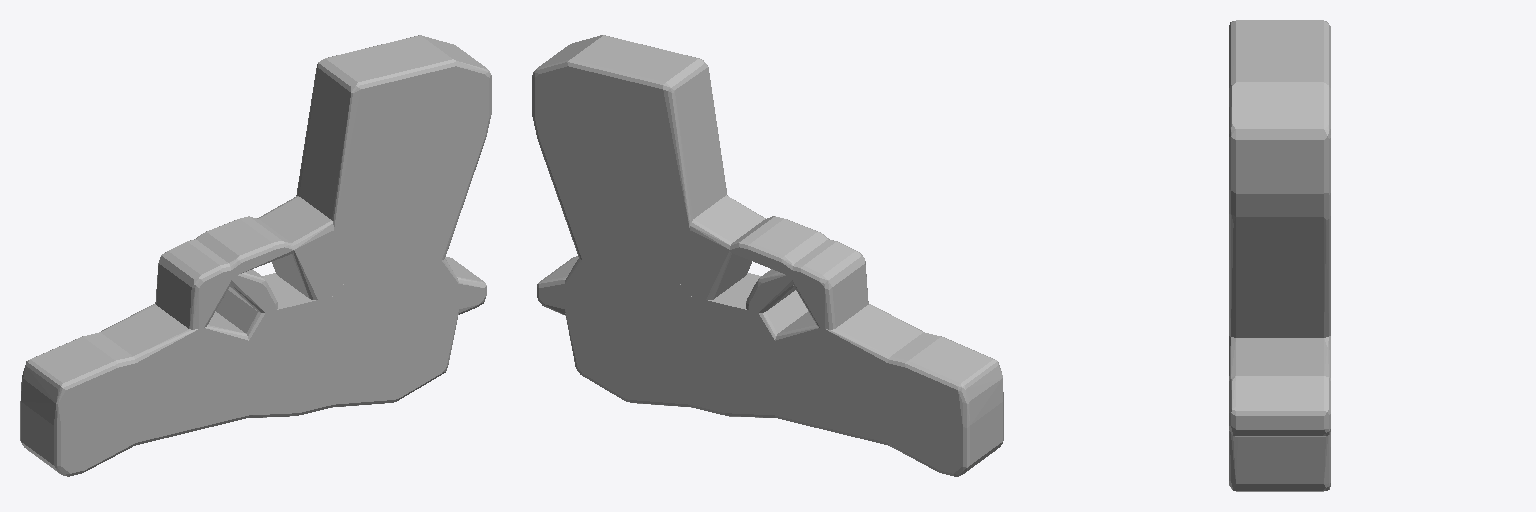
The robot description file, URDF, robot "root":
<robot name="root">
  <link name="link_coacd_convex_piece_0">
    <inertial>
      <origin xyz="0 0 0" rpy="0 0 0"/>
      <inertia ixx="2.37E-02" ixy="1.33E-06" ixz="6.08E-07" iyy="1.79E-02" iyz="1.09E-02" izz="6.46E-03"/>
    </inertial>
    <visual>
      <origin xyz="0 0 0" rpy="0 0 0"/>
      <geometry>
        <mesh filename="coacd_convex_piece_0.obj" scale="1.0000E+00 1.0000E+00 1.0000E+00"/>
      </geometry>
      <material name="">
        <color rgba="7.50E-01 7.50E-01 7.50E-01 1"/>
      </material>
    </visual>
    <collision>
      <origin xyz="0 0 0" rpy="0 0 0"/>
      <geometry>
        <mesh filename="coacd_convex_piece_0.obj" scale="1.0000E+00 1.0000E+00 1.0000E+00"/>
      </geometry>
    </collision>
  </link>
  <link name="link_coacd_convex_piece_1">
    <inertial>
      <origin xyz="0 0 0" rpy="0 0 0"/>
      <inertia ixx="1.34E-03" ixy="8.47E-08" ixz="1.81E-07" iyy="1.21E-03" iyz="-4.14E-04" izz="1.51E-04"/>
    </inertial>
    <visual>
      <origin xyz="0 0 0" rpy="0 0 0"/>
      <geometry>
        <mesh filename="coacd_convex_piece_1.obj" scale="1.0000E+00 1.0000E+00 1.0000E+00"/>
      </geometry>
      <material name="">
        <color rgba="7.50E-01 7.50E-01 7.50E-01 1"/>
      </material>
    </visual>
    <collision>
      <origin xyz="0 0 0" rpy="0 0 0"/>
      <geometry>
        <mesh filename="coacd_convex_piece_1.obj" scale="1.0000E+00 1.0000E+00 1.0000E+00"/>
      </geometry>
    </collision>
  </link>
  <joint name="link_coacd_convex_piece_1_joint" type="fixed">
    <origin xyz="0 0 0" rpy="0 0 0"/>
    <parent link="link_coacd_convex_piece_0"/>
    <child link="link_coacd_convex_piece_1"/>
  </joint>
  <link name="link_coacd_convex_piece_2">
    <inertial>
      <origin xyz="0 0 0" rpy="0 0 0"/>
      <inertia ixx="1.24E-02" ixy="6.91E-07" ixz="9.09E-07" iyy="7.75E-03" iyz="-5.30E-03" izz="5.03E-03"/>
    </inertial>
    <visual>
      <origin xyz="0 0 0" rpy="0 0 0"/>
      <geometry>
        <mesh filename="coacd_convex_piece_2.obj" scale="1.0000E+00 1.0000E+00 1.0000E+00"/>
      </geometry>
      <material name="">
        <color rgba="7.50E-01 7.50E-01 7.50E-01 1"/>
      </material>
    </visual>
    <collision>
      <origin xyz="0 0 0" rpy="0 0 0"/>
      <geometry>
        <mesh filename="coacd_convex_piece_2.obj" scale="1.0000E+00 1.0000E+00 1.0000E+00"/>
      </geometry>
    </collision>
  </link>
  <joint name="link_coacd_convex_piece_2_joint" type="fixed">
    <origin xyz="0 0 0" rpy="0 0 0"/>
    <parent link="link_coacd_convex_piece_1"/>
    <child link="link_coacd_convex_piece_2"/>
  </joint>
  <link name="link_coacd_convex_piece_3">
    <inertial>
      <origin xyz="0 0 0" rpy="0 0 0"/>
      <inertia ixx="1.12E-02" ixy="-6.39E-08" ixz="9.47E-07" iyy="8.49E-03" iyz="5.54E-03" izz="2.94E-03"/>
    </inertial>
    <visual>
      <origin xyz="0 0 0" rpy="0 0 0"/>
      <geometry>
        <mesh filename="coacd_convex_piece_3.obj" scale="1.0000E+00 1.0000E+00 1.0000E+00"/>
      </geometry>
      <material name="">
        <color rgba="7.50E-01 7.50E-01 7.50E-01 1"/>
      </material>
    </visual>
    <collision>
      <origin xyz="0 0 0" rpy="0 0 0"/>
      <geometry>
        <mesh filename="coacd_convex_piece_3.obj" scale="1.0000E+00 1.0000E+00 1.0000E+00"/>
      </geometry>
    </collision>
  </link>
  <joint name="link_coacd_convex_piece_3_joint" type="fixed">
    <origin xyz="0 0 0" rpy="0 0 0"/>
    <parent link="link_coacd_convex_piece_2"/>
    <child link="link_coacd_convex_piece_3"/>
  </joint>
  <link name="link_coacd_convex_piece_4">
    <inertial>
      <origin xyz="0 0 0" rpy="0 0 0"/>
      <inertia ixx="-8.81E-05" ixy="5.06E-08" ixz="2.37E-08" iyy="-5.29E-06" iyz="1.12E-04" izz="-2.20E-05"/>
    </inertial>
    <visual>
      <origin xyz="0 0 0" rpy="0 0 0"/>
      <geometry>
        <mesh filename="coacd_convex_piece_4.obj" scale="1.0000E+00 1.0000E+00 1.0000E+00"/>
      </geometry>
      <material name="">
        <color rgba="7.50E-01 7.50E-01 7.50E-01 1"/>
      </material>
    </visual>
    <collision>
      <origin xyz="0 0 0" rpy="0 0 0"/>
      <geometry>
        <mesh filename="coacd_convex_piece_4.obj" scale="1.0000E+00 1.0000E+00 1.0000E+00"/>
      </geometry>
    </collision>
  </link>
  <joint name="link_coacd_convex_piece_4_joint" type="fixed">
    <origin xyz="0 0 0" rpy="0 0 0"/>
    <parent link="link_coacd_convex_piece_3"/>
    <child link="link_coacd_convex_piece_4"/>
  </joint>
  <link name="link_coacd_convex_piece_5">
    <inertial>
      <origin xyz="0 0 0" rpy="0 0 0"/>
      <inertia ixx="2.47E-03" ixy="1.69E-07" ixz="2.65E-07" iyy="-3.86E-04" iyz="-4.03E-05" izz="3.11E-03"/>
    </inertial>
    <visual>
      <origin xyz="0 0 0" rpy="0 0 0"/>
      <geometry>
        <mesh filename="coacd_convex_piece_5.obj" scale="1.0000E+00 1.0000E+00 1.0000E+00"/>
      </geometry>
      <material name="">
        <color rgba="7.50E-01 7.50E-01 7.50E-01 1"/>
      </material>
    </visual>
    <collision>
      <origin xyz="0 0 0" rpy="0 0 0"/>
      <geometry>
        <mesh filename="coacd_convex_piece_5.obj" scale="1.0000E+00 1.0000E+00 1.0000E+00"/>
      </geometry>
    </collision>
  </link>
  <joint name="link_coacd_convex_piece_5_joint" type="fixed">
    <origin xyz="0 0 0" rpy="0 0 0"/>
    <parent link="link_coacd_convex_piece_4"/>
    <child link="link_coacd_convex_piece_5"/>
  </joint>
  <link name="link_coacd_convex_piece_6">
    <inertial>
      <origin xyz="0 0 0" rpy="0 0 0"/>
      <inertia ixx="5.65E-03" ixy="1.92E-07" ixz="3.23E-07" iyy="2.44E-03" iyz="3.76E-03" izz="3.51E-03"/>
    </inertial>
    <visual>
      <origin xyz="0 0 0" rpy="0 0 0"/>
      <geometry>
        <mesh filename="coacd_convex_piece_6.obj" scale="1.0000E+00 1.0000E+00 1.0000E+00"/>
      </geometry>
      <material name="">
        <color rgba="7.50E-01 7.50E-01 7.50E-01 1"/>
      </material>
    </visual>
    <collision>
      <origin xyz="0 0 0" rpy="0 0 0"/>
      <geometry>
        <mesh filename="coacd_convex_piece_6.obj" scale="1.0000E+00 1.0000E+00 1.0000E+00"/>
      </geometry>
    </collision>
  </link>
  <joint name="link_coacd_convex_piece_6_joint" type="fixed">
    <origin xyz="0 0 0" rpy="0 0 0"/>
    <parent link="link_coacd_convex_piece_5"/>
    <child link="link_coacd_convex_piece_6"/>
  </joint>
  <link name="link_coacd_convex_piece_7">
    <inertial>
      <origin xyz="0 0 0" rpy="0 0 0"/>
      <inertia ixx="7.79E-05" ixy="2.92E-08" ixz="1.21E-07" iyy="1.40E-04" iyz="1.39E-04" izz="-1.82E-05"/>
    </inertial>
    <visual>
      <origin xyz="0 0 0" rpy="0 0 0"/>
      <geometry>
        <mesh filename="coacd_convex_piece_7.obj" scale="1.0000E+00 1.0000E+00 1.0000E+00"/>
      </geometry>
      <material name="">
        <color rgba="7.50E-01 7.50E-01 7.50E-01 1"/>
      </material>
    </visual>
    <collision>
      <origin xyz="0 0 0" rpy="0 0 0"/>
      <geometry>
        <mesh filename="coacd_convex_piece_7.obj" scale="1.0000E+00 1.0000E+00 1.0000E+00"/>
      </geometry>
    </collision>
  </link>
  <joint name="link_coacd_convex_piece_7_joint" type="fixed">
    <origin xyz="0 0 0" rpy="0 0 0"/>
    <parent link="link_coacd_convex_piece_6"/>
    <child link="link_coacd_convex_piece_7"/>
  </joint>
  <link name="link_coacd_convex_piece_8">
    <inertial>
      <origin xyz="0 0 0" rpy="0 0 0"/>
      <inertia ixx="-1.07E-04" ixy="2.62E-08" ixz="4.02E-08" iyy="-6.72E-05" iyz="7.87E-05" izz="-7.88E-06"/>
    </inertial>
    <visual>
      <origin xyz="0 0 0" rpy="0 0 0"/>
      <geometry>
        <mesh filename="coacd_convex_piece_8.obj" scale="1.0000E+00 1.0000E+00 1.0000E+00"/>
      </geometry>
      <material name="">
        <color rgba="7.50E-01 7.50E-01 7.50E-01 1"/>
      </material>
    </visual>
    <collision>
      <origin xyz="0 0 0" rpy="0 0 0"/>
      <geometry>
        <mesh filename="coacd_convex_piece_8.obj" scale="1.0000E+00 1.0000E+00 1.0000E+00"/>
      </geometry>
    </collision>
  </link>
  <joint name="link_coacd_convex_piece_8_joint" type="fixed">
    <origin xyz="0 0 0" rpy="0 0 0"/>
    <parent link="link_coacd_convex_piece_7"/>
    <child link="link_coacd_convex_piece_8"/>
  </joint>
  <link name="link_coacd_convex_piece_9">
    <inertial>
      <origin xyz="0 0 0" rpy="0 0 0"/>
      <inertia ixx="-9.80E-05" ixy="3.79E-08" ixz="4.81E-08" iyy="-5.69E-05" iyz="5.05E-05" izz="-1.50E-05"/>
    </inertial>
    <visual>
      <origin xyz="0 0 0" rpy="0 0 0"/>
      <geometry>
        <mesh filename="coacd_convex_piece_9.obj" scale="1.0000E+00 1.0000E+00 1.0000E+00"/>
      </geometry>
      <material name="">
        <color rgba="7.50E-01 7.50E-01 7.50E-01 1"/>
      </material>
    </visual>
    <collision>
      <origin xyz="0 0 0" rpy="0 0 0"/>
      <geometry>
        <mesh filename="coacd_convex_piece_9.obj" scale="1.0000E+00 1.0000E+00 1.0000E+00"/>
      </geometry>
    </collision>
  </link>
  <joint name="link_coacd_convex_piece_9_joint" type="fixed">
    <origin xyz="0 0 0" rpy="0 0 0"/>
    <parent link="link_coacd_convex_piece_8"/>
    <child link="link_coacd_convex_piece_9"/>
  </joint>
</robot>

--- What the picture shows (computed from the rendered views, not written in the file) ---
3 views of the same robot in one strip: view 1: azimuth 30°, elevation 25°; view 2: azimuth 150°, elevation 25°; view 3: azimuth 270°, elevation 25° (orthographic).
Robot: root — 10 links, 9 joints (9 fixed); root link link_coacd_convex_piece_0; default pose: all joints at 0.
Links seen in each view (by area): view 1: link_coacd_convex_piece_0, link_coacd_convex_piece_2, link_coacd_convex_piece_6, link_coacd_convex_piece_3, link_coacd_convex_piece_5, link_coacd_convex_piece_7, link_coacd_convex_piece_4, link_coacd_convex_piece_9, link_coacd_convex_piece_8, link_coacd_convex_piece_1; view 2: link_coacd_convex_piece_0, link_coacd_convex_piece_2, link_coacd_convex_piece_6, link_coacd_convex_piece_3, link_coacd_convex_piece_5, link_coacd_convex_piece_7, link_coacd_convex_piece_4, link_coacd_convex_piece_9, link_coacd_convex_piece_8, link_coacd_convex_piece_1; view 3: link_coacd_convex_piece_0, link_coacd_convex_piece_2, link_coacd_convex_piece_1.
Link boxes in pixels (<box>): link_coacd_convex_piece_0: <box>296,35,491,286</box>; link_coacd_convex_piece_2: <box>332,259,458,407</box>; link_coacd_convex_piece_6: <box>101,304,248,445</box>; link_coacd_convex_piece_3: <box>20,332,135,476</box>; link_coacd_convex_piece_5: <box>216,273,333,417</box>; link_coacd_convex_piece_7: <box>155,239,231,329</box>; link_coacd_convex_piece_4: <box>257,196,333,299</box>; link_coacd_convex_piece_9: <box>196,216,293,275</box>; link_coacd_convex_piece_8: <box>228,269,277,312</box>; link_coacd_convex_piece_1: <box>445,257,486,314</box>; link_coacd_convex_piece_0: <box>532,35,727,286</box>; link_coacd_convex_piece_2: <box>565,259,691,407</box>; link_coacd_convex_piece_6: <box>775,304,922,445</box>; link_coacd_convex_piece_3: <box>888,332,1003,476</box>; link_coacd_convex_piece_5: <box>690,273,807,417</box>; link_coacd_convex_piece_7: <box>792,239,868,329</box>; link_coacd_convex_piece_4: <box>690,195,765,299</box>; link_coacd_convex_piece_9: <box>730,216,828,275</box>; link_coacd_convex_piece_8: <box>746,269,795,312</box>; link_coacd_convex_piece_1: <box>537,256,578,315</box>; link_coacd_convex_piece_0: <box>1229,20,1330,337</box>; link_coacd_convex_piece_2: <box>1229,336,1330,491</box>; link_coacd_convex_piece_1: <box>1229,376,1330,436</box>.
Bounding box of the posed robot: 1.64 × 0.2502 × 1.18 m (x, y, z).
Meshes: 10 distinct files referenced, 10 mesh visuals loaded (10 OBJ).
